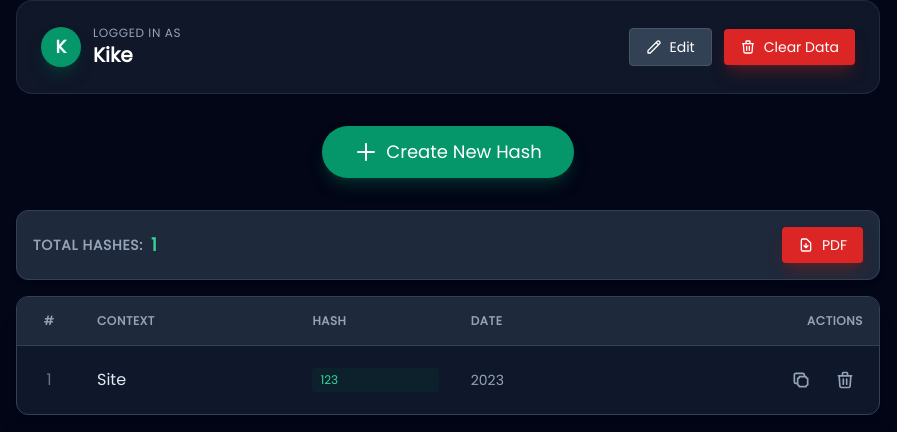
Scenario: UserDashboard.vue › Can Clear All Data
This screenshot has width=897, height=432.
Click the button "Clear Data" at (789, 47), box [724,29,855,65]
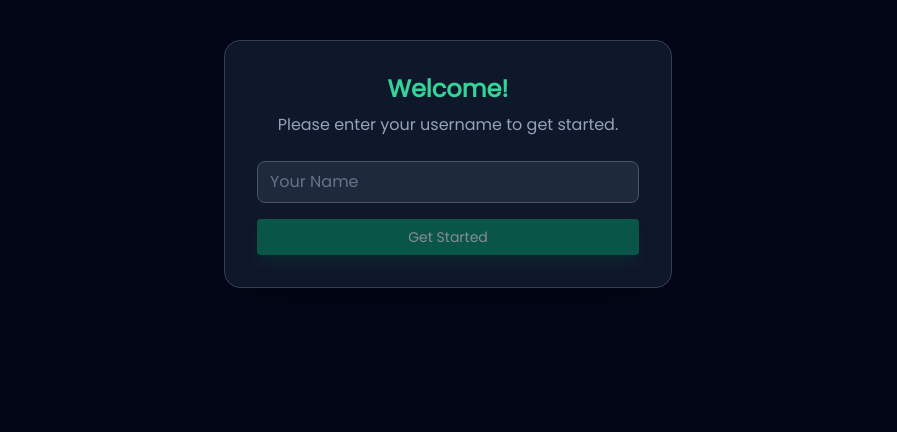
Result: the text "Welcome!" is shown at [388,72,508,105]
